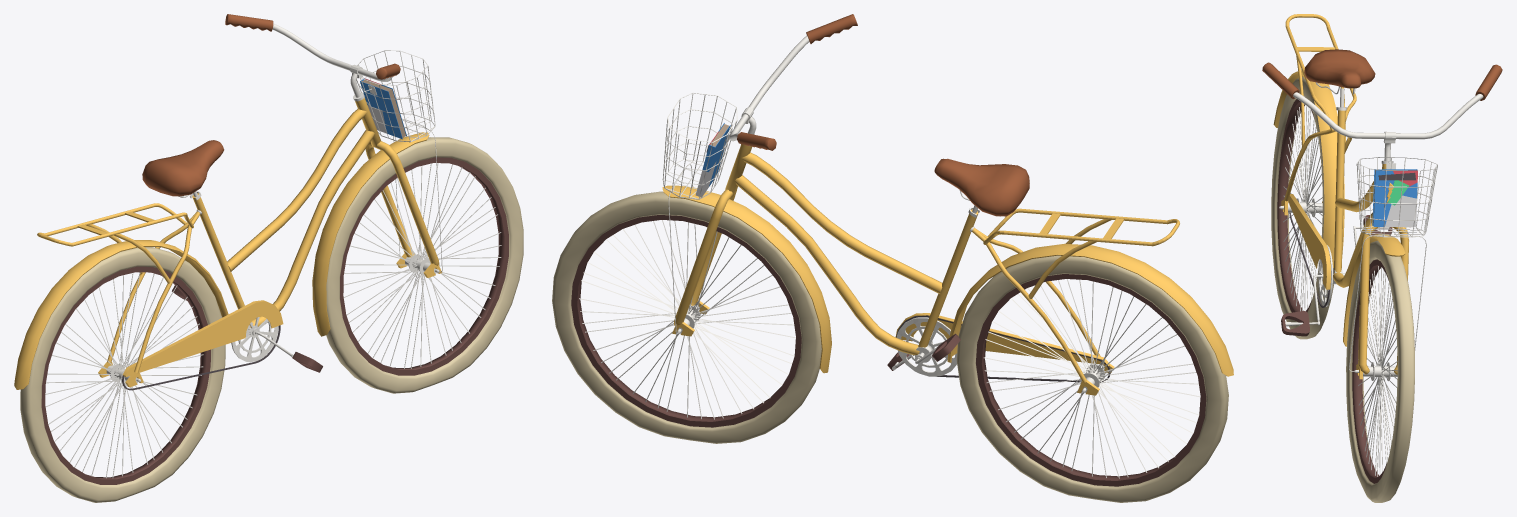
File: bici-amarilla.glb
3 renders of one model, left to right at view 1: azimuth 30°, elevation 25°; view 2: azimuth 150°, elevation 25°; view 3: azimuth 270°, elevation 25°, orthographic. The views are drawn at different scales.
Parts seen in each view (by area): view 1: Cylinder.005_Material.001_0, Circle.003_Material.002_0; view 2: Cylinder.005_Material.001_0, Circle.003_Material.002_0; view 3: Cylinder.005_Material.001_0, Circle.003_Material.002_0.
Part boxes in pixels (left/top/right/bottom): Cylinder.005_Material.001_0: left=14, top=14, right=523, bottom=502; Circle.003_Material.002_0: left=122, top=300, right=283, bottom=390; Cylinder.005_Material.001_0: left=552, top=14, right=1233, bottom=502; Circle.003_Material.002_0: left=895, top=313, right=1110, bottom=382; Cylinder.005_Material.001_0: left=1262, top=14, right=1502, bottom=502; Circle.003_Material.002_0: left=1288, top=194, right=1388, bottom=307.
Size of the model in its own units: 497 by 317 by 183.
2 materials, 2 textured.
